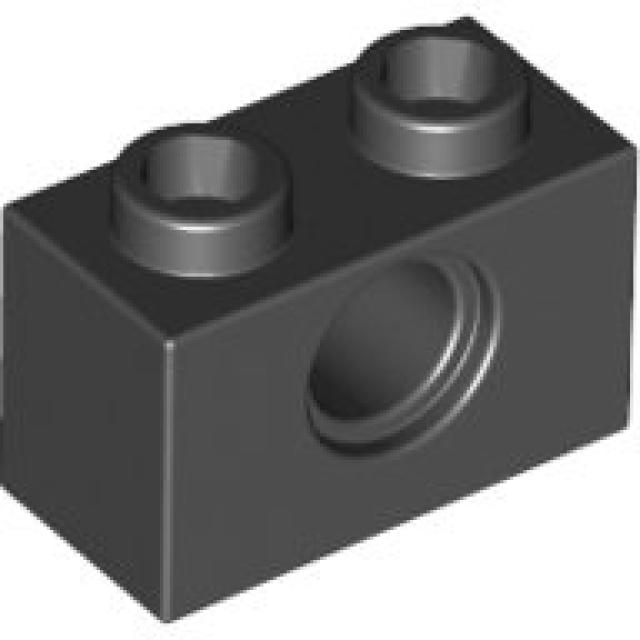Black_Small: (0, 17, 637, 623)
